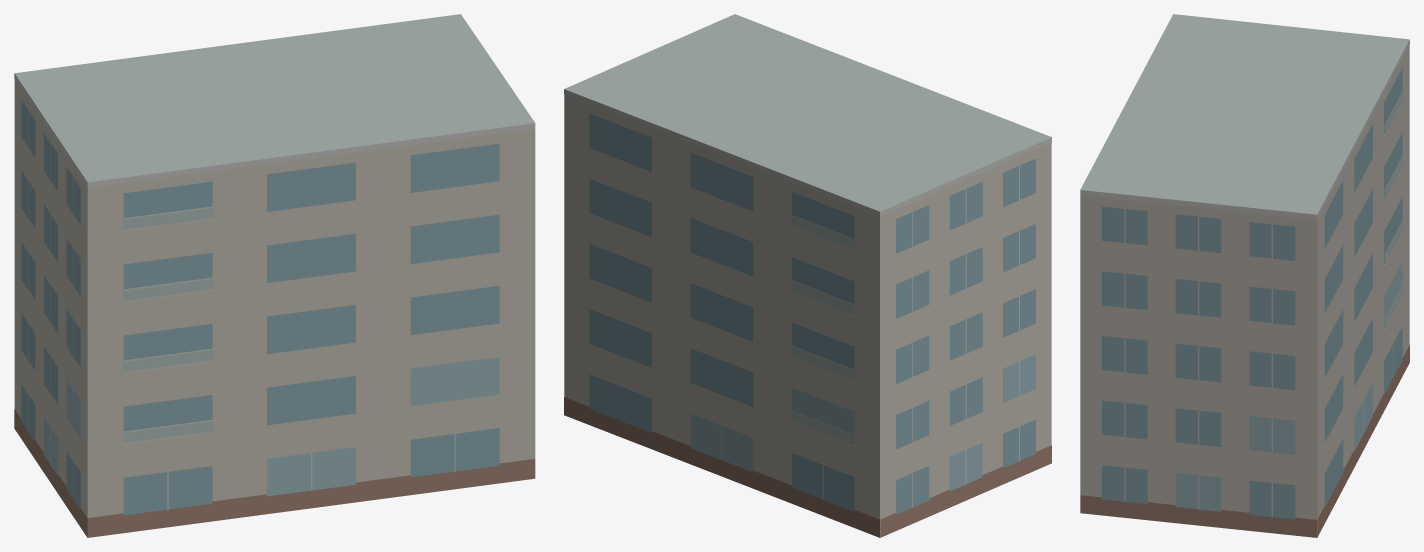
Rendered from survey-upis-32546164.glb.
The picture shows the model from 3 angles, left to right: view 1: azimuth 30°, elevation 25°; view 2: azimuth 150°, elevation 25°; view 3: azimuth 270°, elevation 25°; orthographic projection. The views are drawn at different scales.
Parts seen in each view (by area): view 1: survey-upis-32546164.tmp; view 2: survey-upis-32546164.tmp; view 3: survey-upis-32546164.tmp.
Part boxes in pixels (x1=…): survey-upis-32546164.tmp: x1=14, y1=14, x2=535, y2=537; survey-upis-32546164.tmp: x1=564, y1=14, x2=1051, y2=537; survey-upis-32546164.tmp: x1=1080, y1=14, x2=1409, y2=537.
Size of the model in its own units: 20.32 by 15.25 by 14.11.
